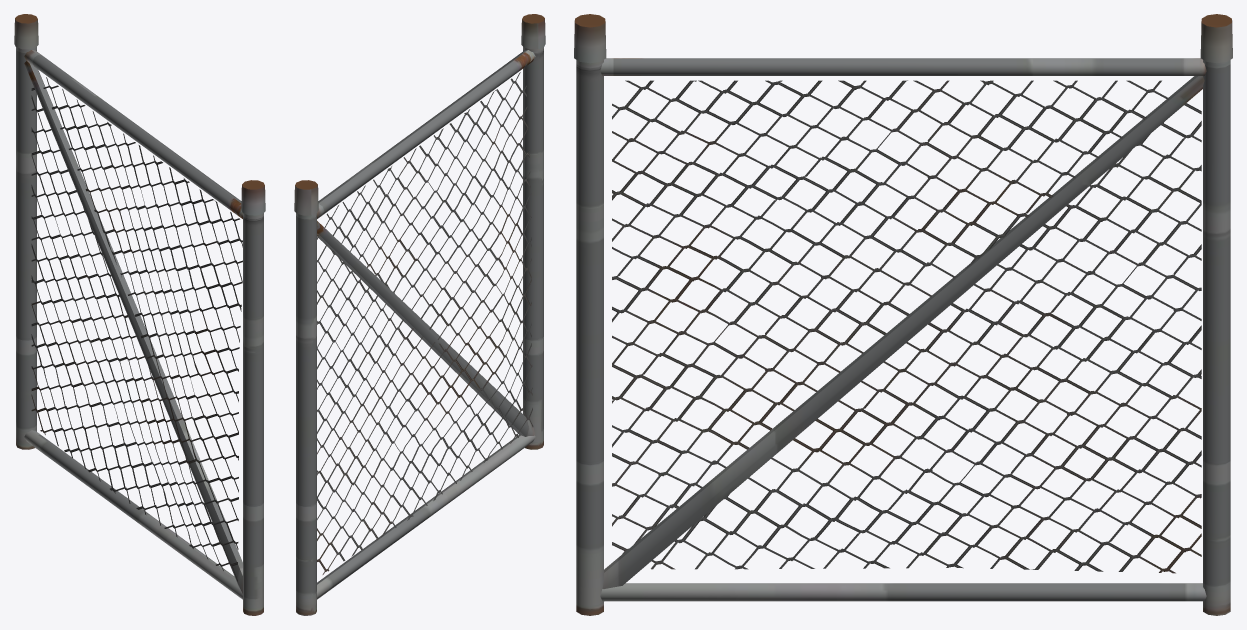
3 views of the same model, side by side, from view 1: azimuth 30°, elevation 25°; view 2: azimuth 150°, elevation 25°; view 3: azimuth 270°, elevation 25° (orthographic). The views are drawn at different scales.
Visible parts, largest first — view 1: body0_model0_lod0_mesh0, body0_model0_lod0_mesh1; view 2: body0_model0_lod0_mesh0, body0_model0_lod0_mesh1; view 3: body0_model0_lod0_mesh0, body0_model0_lod0_mesh1.
Part boxes in pixels (x1=…): body0_model0_lod0_mesh0: x1=14, y1=14, x2=265, y2=615; body0_model0_lod0_mesh1: x1=31, y1=77, x2=242, y2=581; body0_model0_lod0_mesh0: x1=294, y1=14, x2=545, y2=615; body0_model0_lod0_mesh1: x1=317, y1=72, x2=533, y2=574; body0_model0_lod0_mesh0: x1=574, y1=14, x2=1232, y2=615; body0_model0_lod0_mesh1: x1=612, y1=80, x2=1201, y2=573.
Bounding box in the file's own units: 7.91 × 128 × 130.
2 materials, 2 textured.
